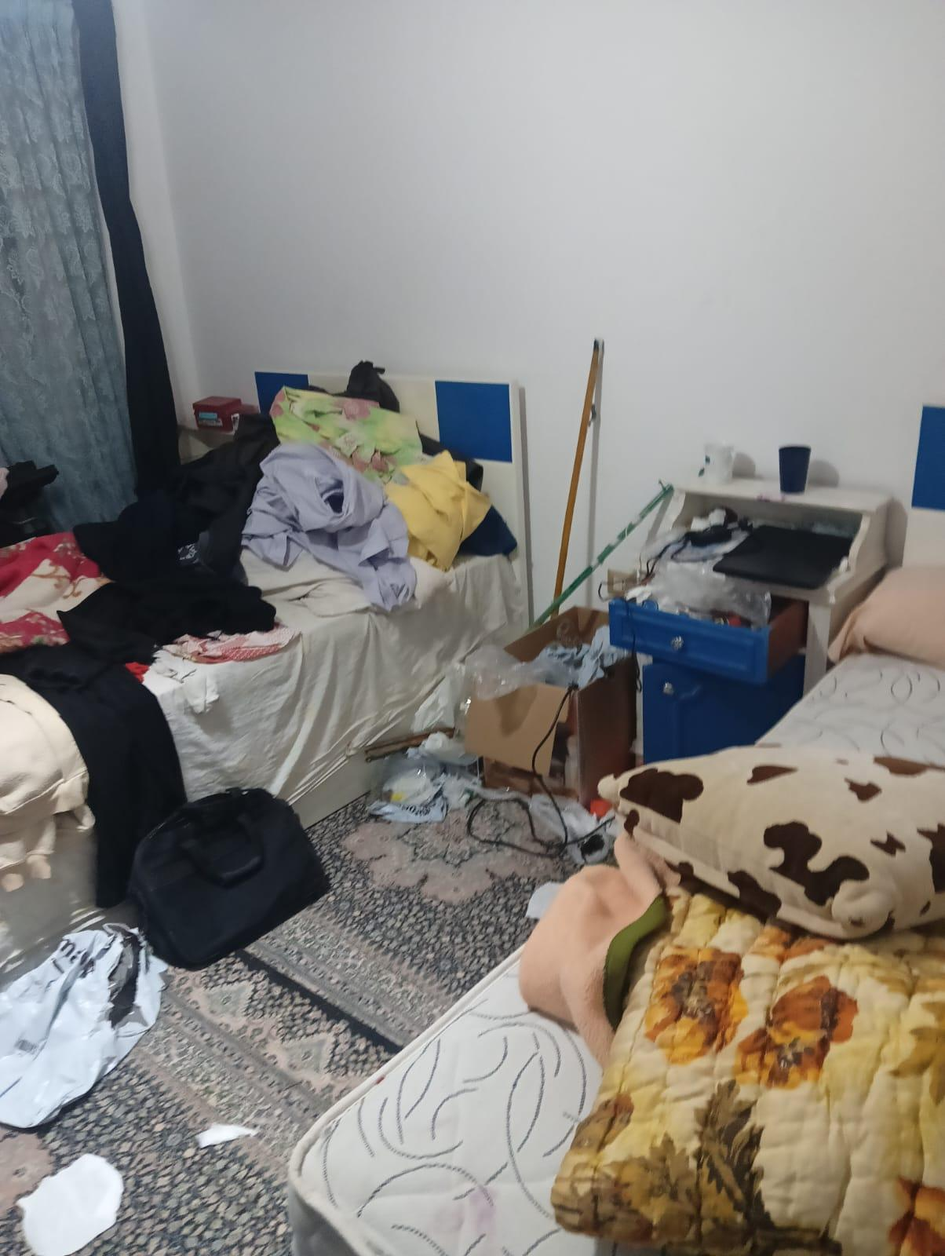cup: (779, 445, 810, 493), (703, 443, 735, 484)
